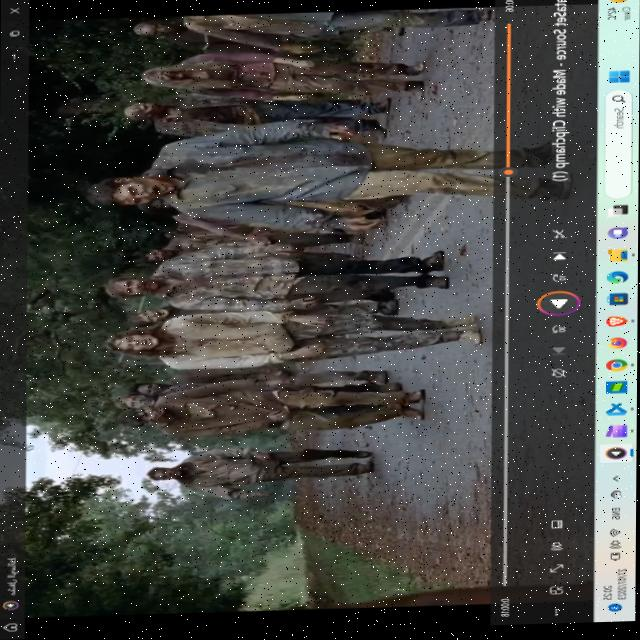Zombie: (92, 178, 176, 208), (106, 330, 169, 357), (106, 278, 164, 299), (143, 65, 191, 88), (127, 99, 165, 122), (123, 409, 165, 428), (131, 381, 169, 400), (129, 307, 169, 325), (134, 23, 179, 38), (141, 245, 172, 266), (118, 397, 151, 413), (149, 468, 185, 481)
